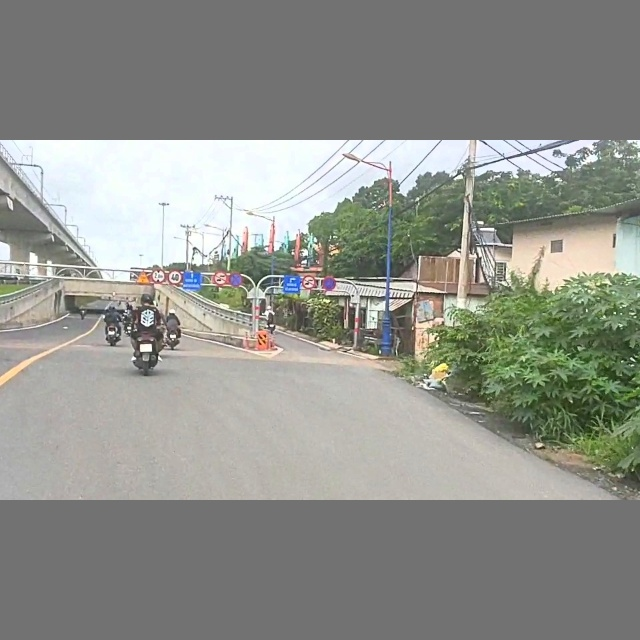P.107: (301, 275, 316, 289), (213, 271, 227, 285)
P.117*: (152, 268, 165, 283)
P.127*40: (168, 270, 182, 285)
P.130: (229, 273, 243, 287), (323, 277, 337, 291)
W.239b*: (135, 270, 151, 285)
